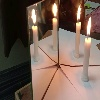fire: (86, 16, 92, 41)
